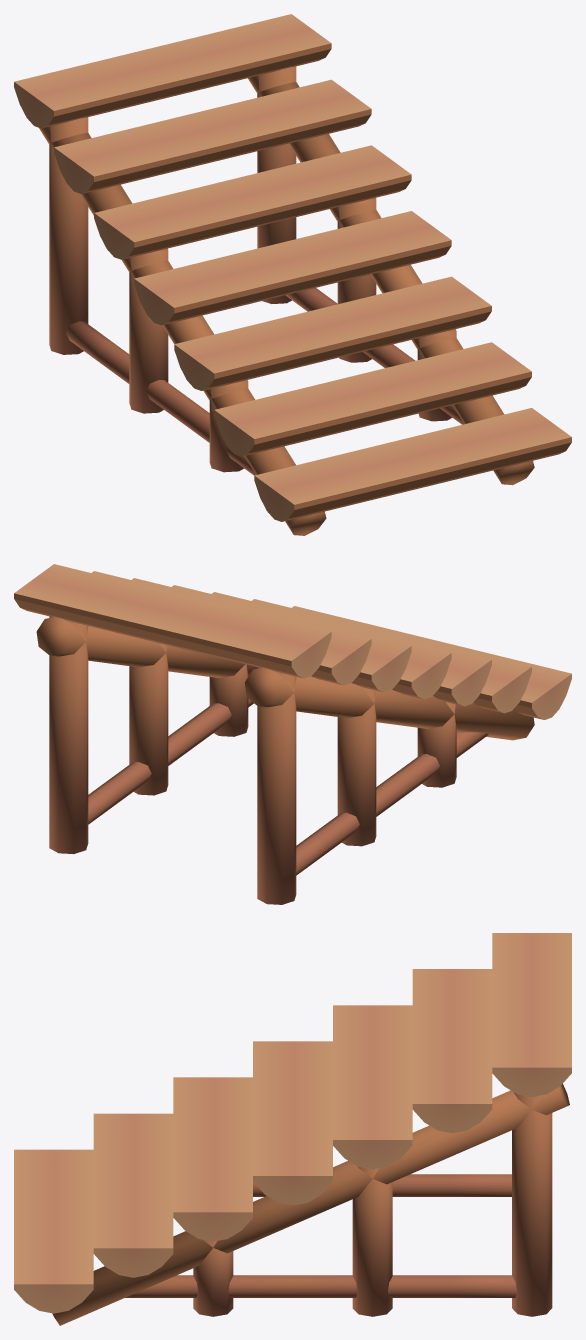
Rendered from LogStairs1.fbx.
3 views of the same model, one above another, from view 1: azimuth 30°, elevation 25°; view 2: azimuth 150°, elevation 25°; view 3: azimuth 270°, elevation 25° (orthographic).
Parts seen in each view (by area): view 1: Cube.090; view 2: Cube.090; view 3: Cube.090.
Boxes of the visible parts, left/top/right/bottom form: Cube.090: left=14, top=14, right=571, bottom=535; Cube.090: left=14, top=564, right=571, bottom=904; Cube.090: left=14, top=933, right=571, bottom=1325.
Bounding box in the file's own units: 400 × 379 × 700.
